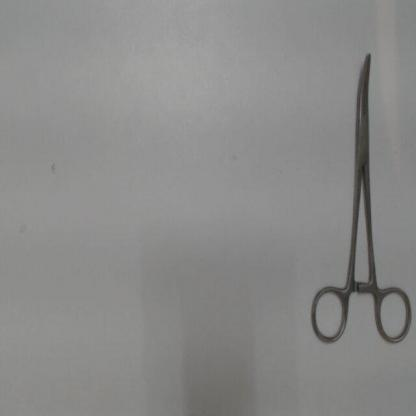Crile Artery Forceps: (304, 47, 414, 347)
